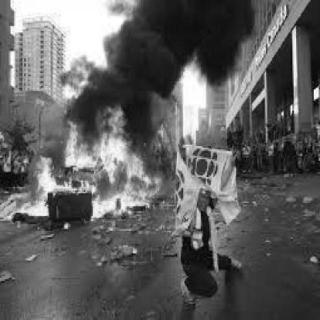Smoke: (62, 1, 266, 125)
